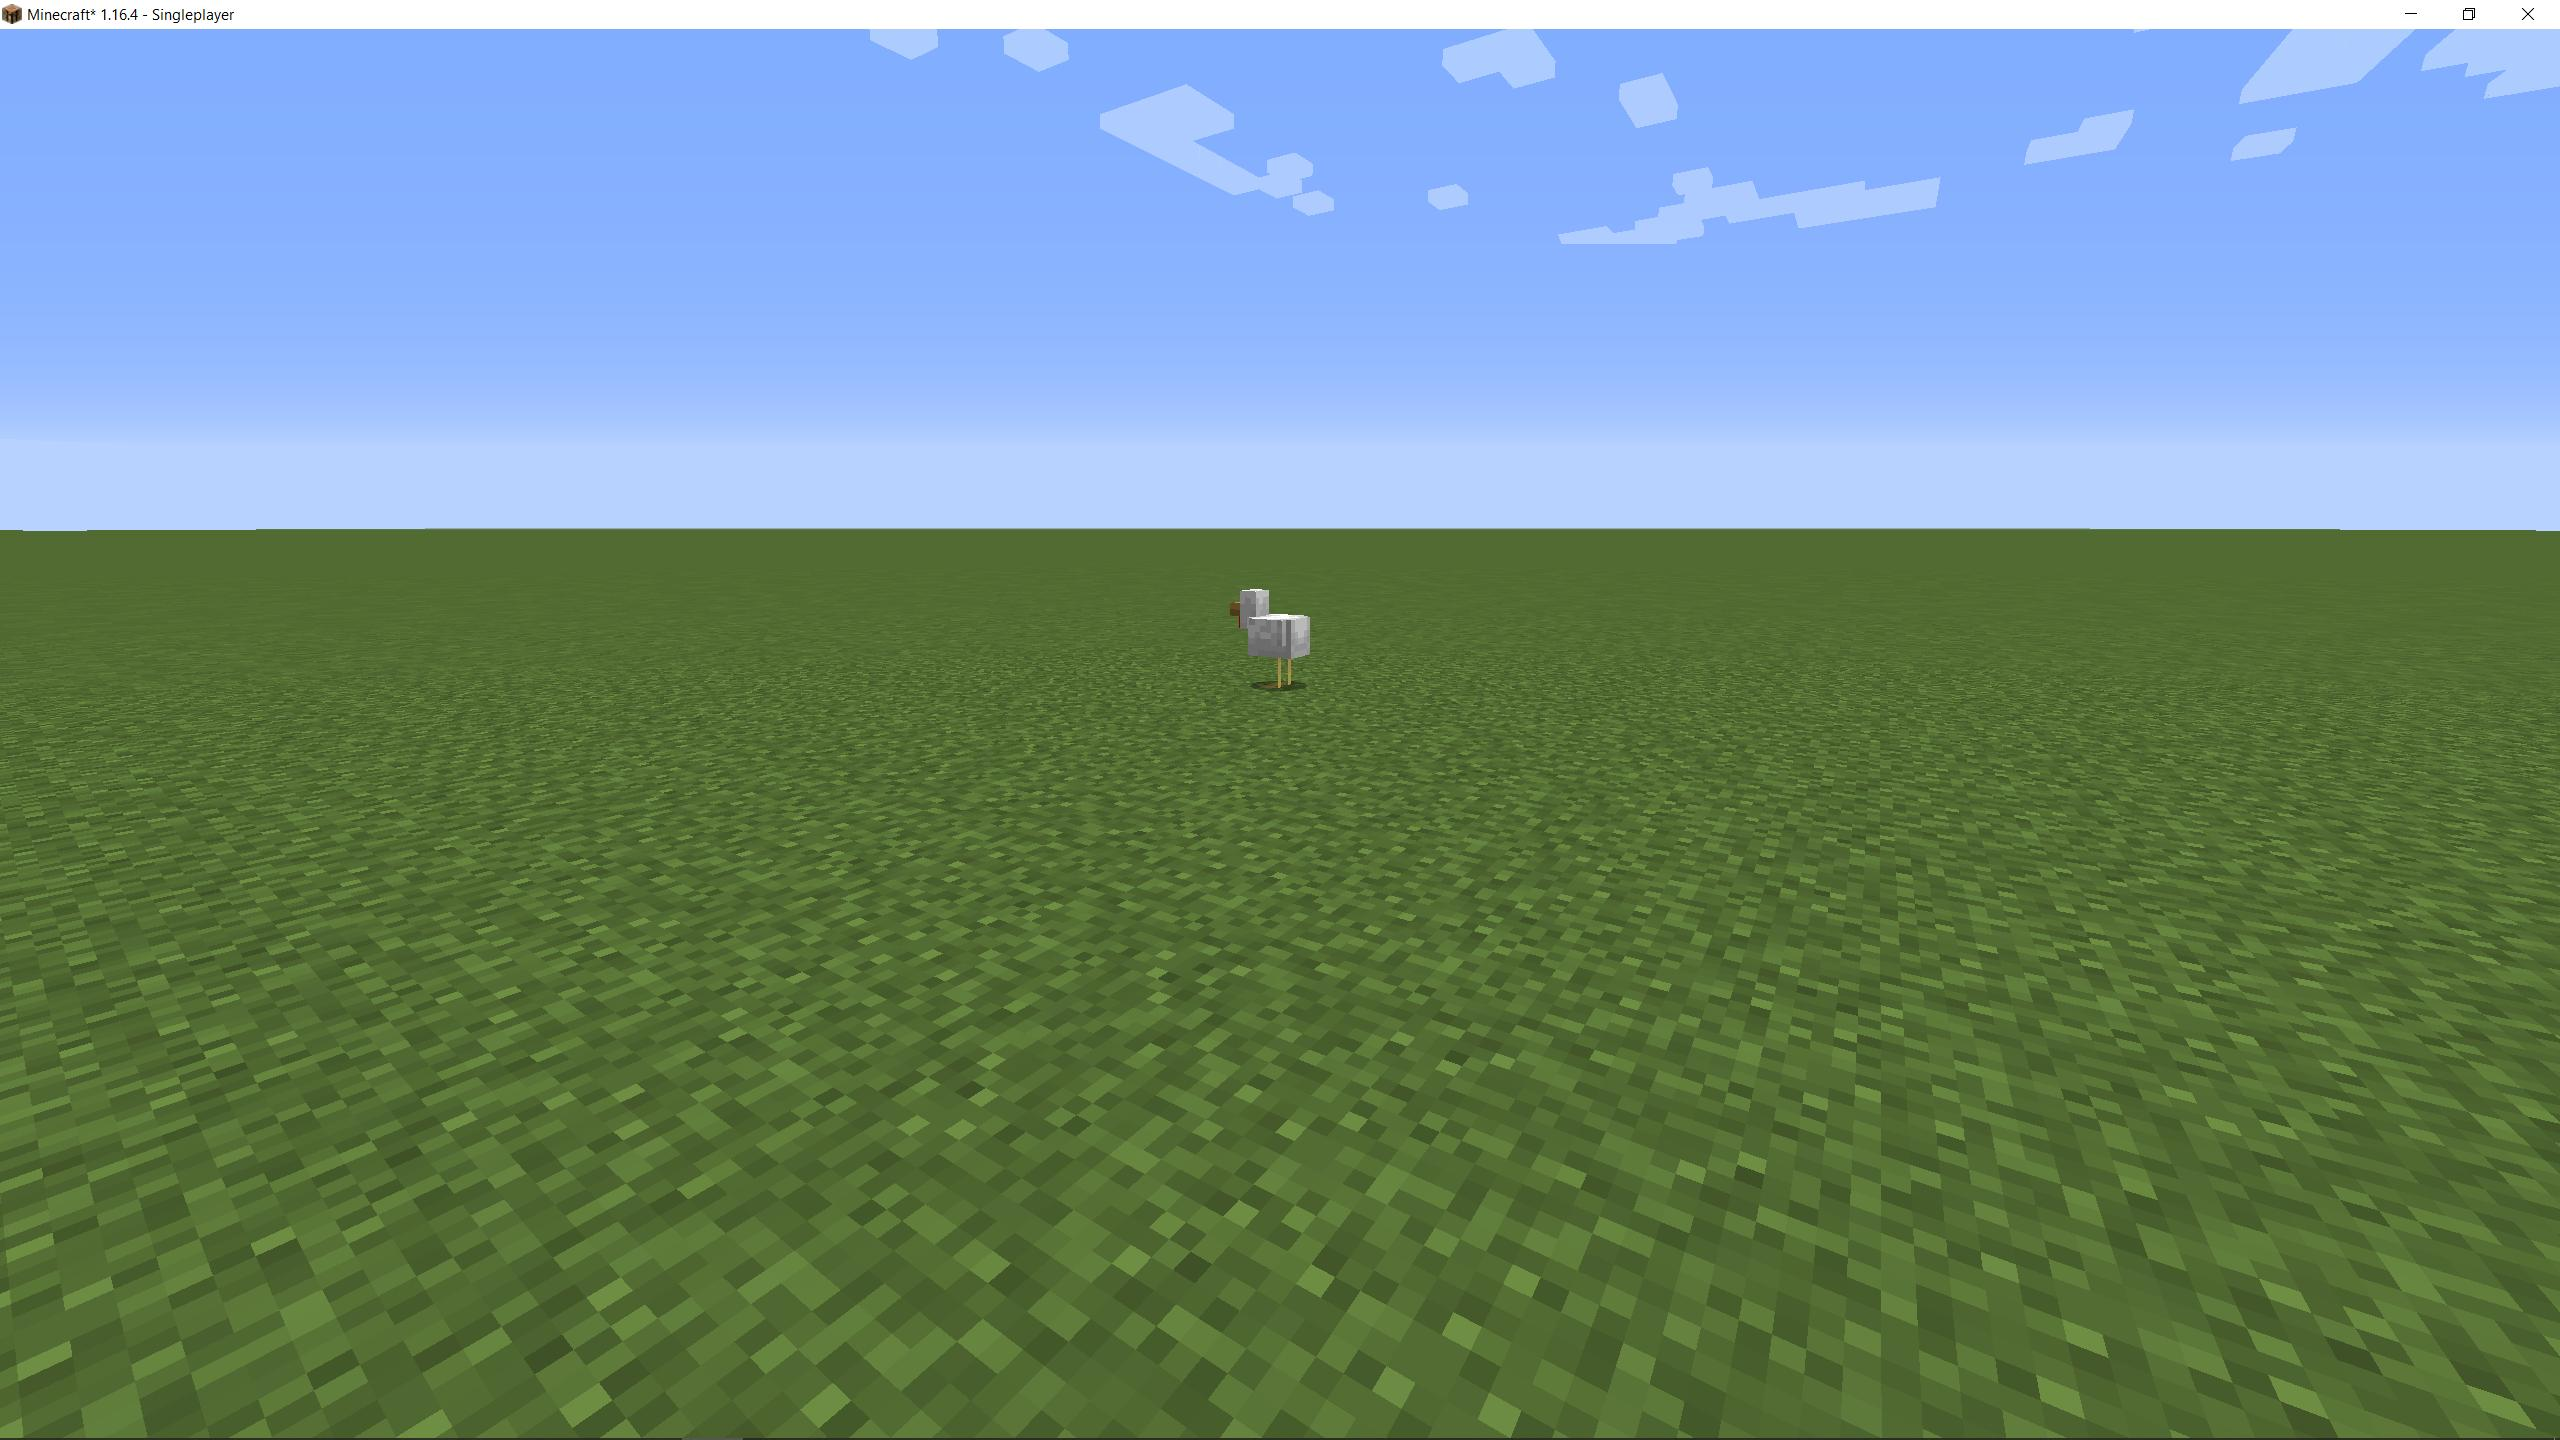chicken: (1224, 580, 1322, 703)
